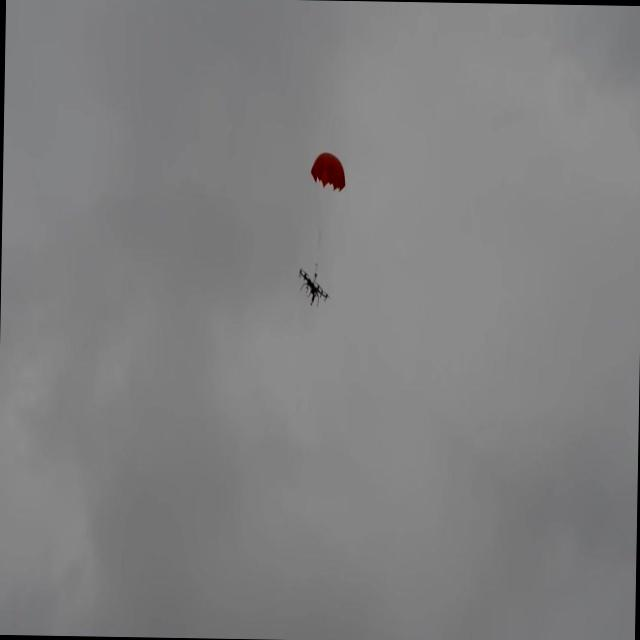drone: (296, 266, 332, 308)
